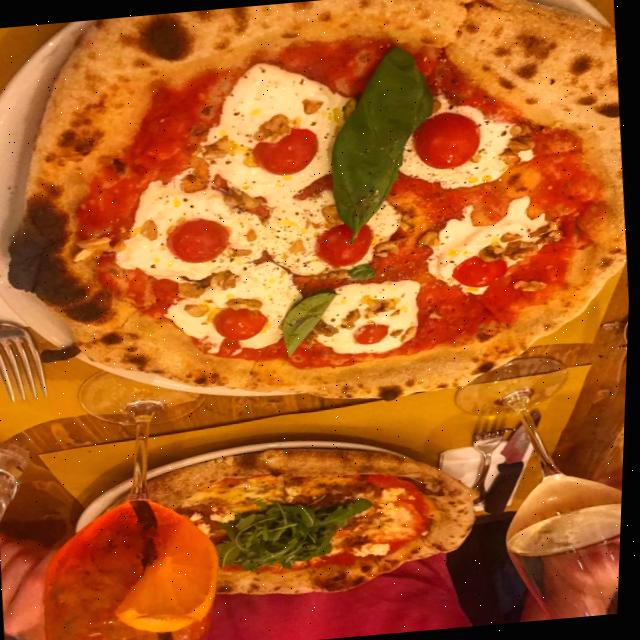basil: (316, 44, 451, 247), (277, 286, 345, 357), (347, 259, 383, 286)
pizza: (0, 0, 640, 429), (72, 429, 492, 619)
tomatoes: (407, 106, 486, 176), (248, 120, 324, 184), (166, 214, 234, 270), (315, 220, 381, 276), (447, 252, 511, 292), (213, 302, 267, 344), (351, 316, 399, 352)
